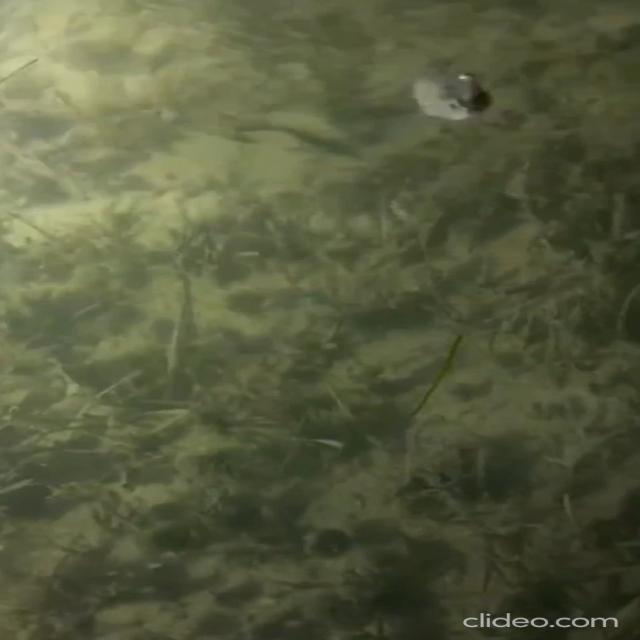fish: (391, 58, 506, 135)
